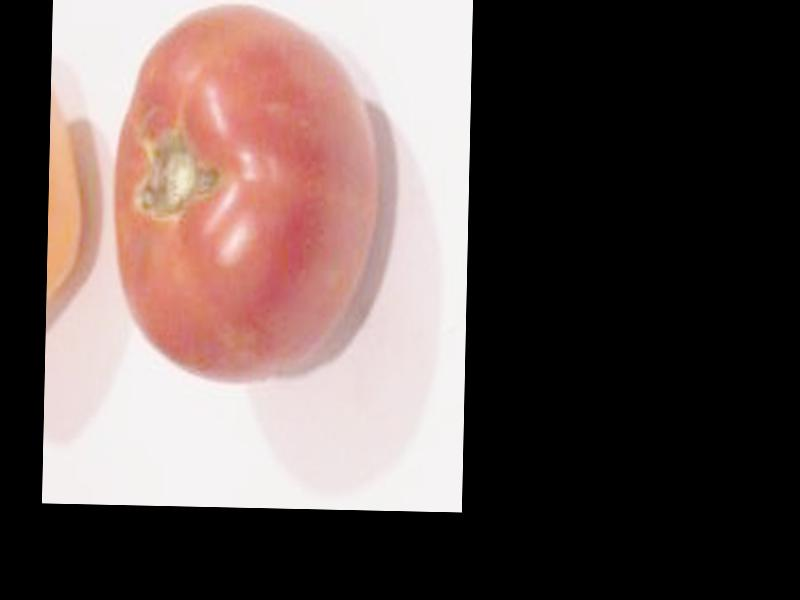Tomato: (111, 1, 378, 382)
